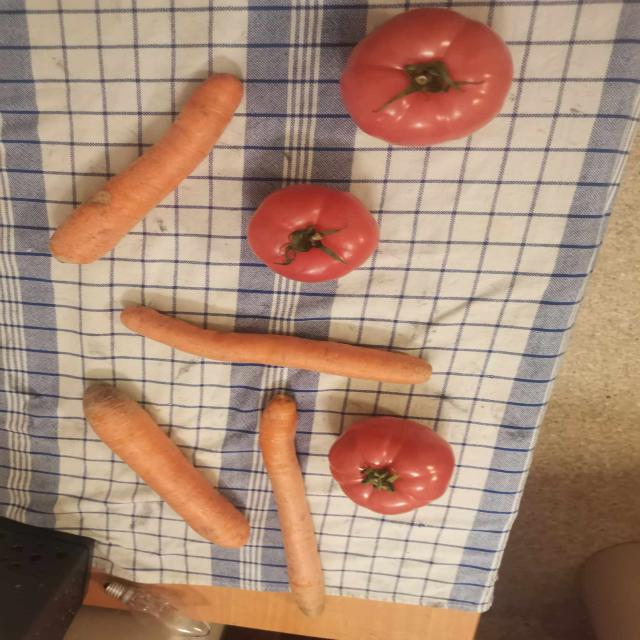carrot: (50, 74, 243, 264), (83, 382, 250, 548), (120, 306, 432, 384), (258, 395, 325, 618)
tomato: (340, 9, 513, 145), (247, 184, 380, 282), (328, 416, 455, 515)
